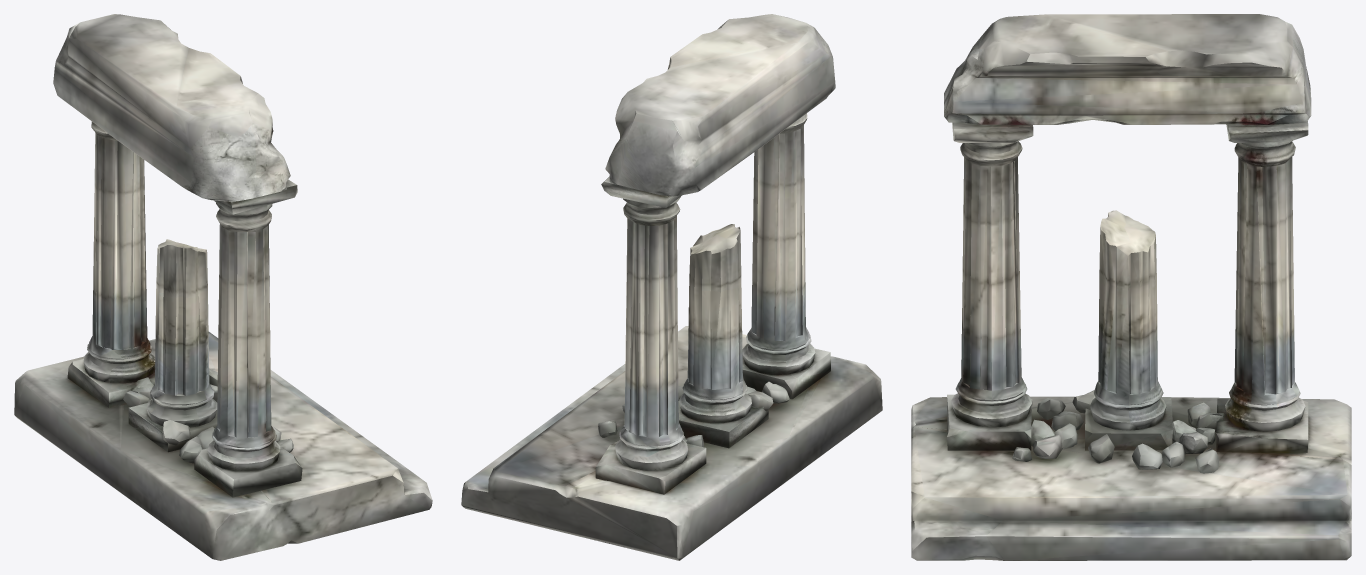
File: obj_colonnade_ruin.glb
3 renders of one model, left to right at view 1: azimuth 30°, elevation 25°; view 2: azimuth 150°, elevation 25°; view 3: azimuth 270°, elevation 25°, orthographic. The views are drawn at different scales.
Parts seen in each view (by area): view 1: model; view 2: model; view 3: model.
Boxes of the visible parts, x1,y1,x2,y2 form: model: (14, 14, 432, 560); model: (461, 14, 882, 560); model: (911, 14, 1351, 560).
Bounding box in the file's own units: 0.5656 × 1 × 0.8982.
Materials: 1 (1 with a texture image).
